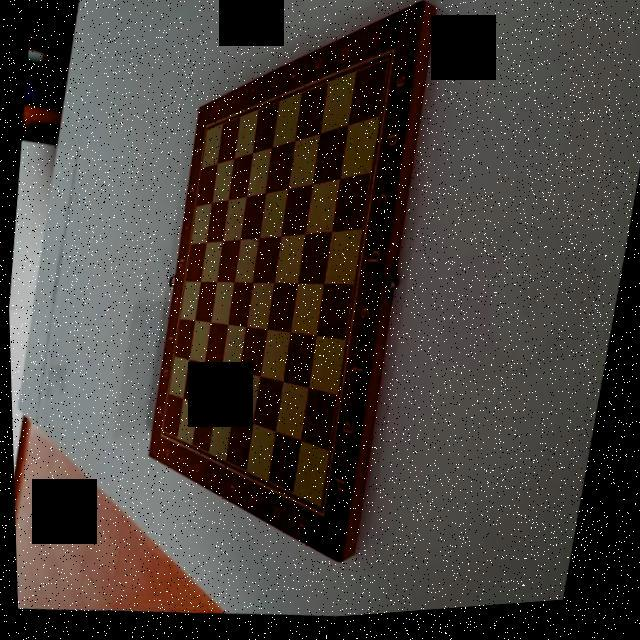chess-table-corners: (380, 49, 402, 77), (319, 502, 340, 530), (202, 122, 219, 142), (162, 426, 178, 444)
